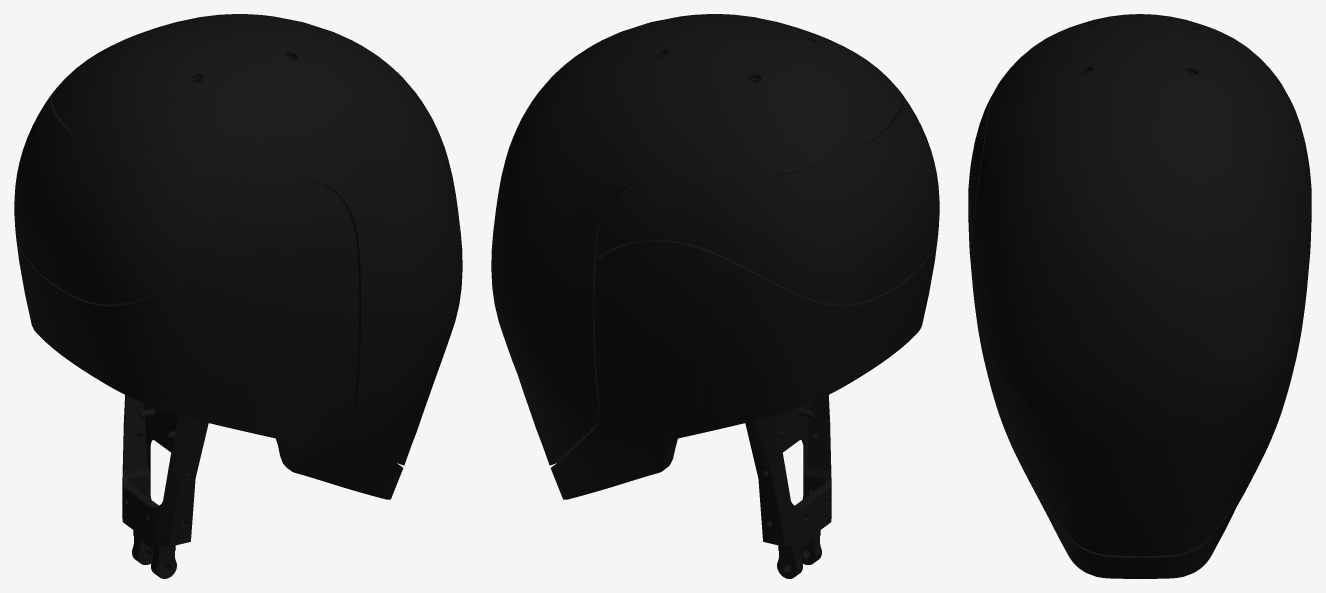
File: link_head_y.glb
3 views of the same model, side by side, from view 1: azimuth 30°, elevation 25°; view 2: azimuth 150°, elevation 25°; view 3: azimuth 270°, elevation 25° (orthographic). The views are drawn at different scales.
Visible parts, largest first — view 1: link_head_y; view 2: link_head_y; view 3: link_head_y.
Boxes of the visible parts, x1=… form: link_head_y: x1=14, y1=14, x2=462, y2=578; link_head_y: x1=491, y1=14, x2=939, y2=578; link_head_y: x1=968, y1=14, x2=1311, y2=578.
Bounding box in the file's own units: 0.1907 × 0.243 × 0.1492.
1 material, 1 textured.
